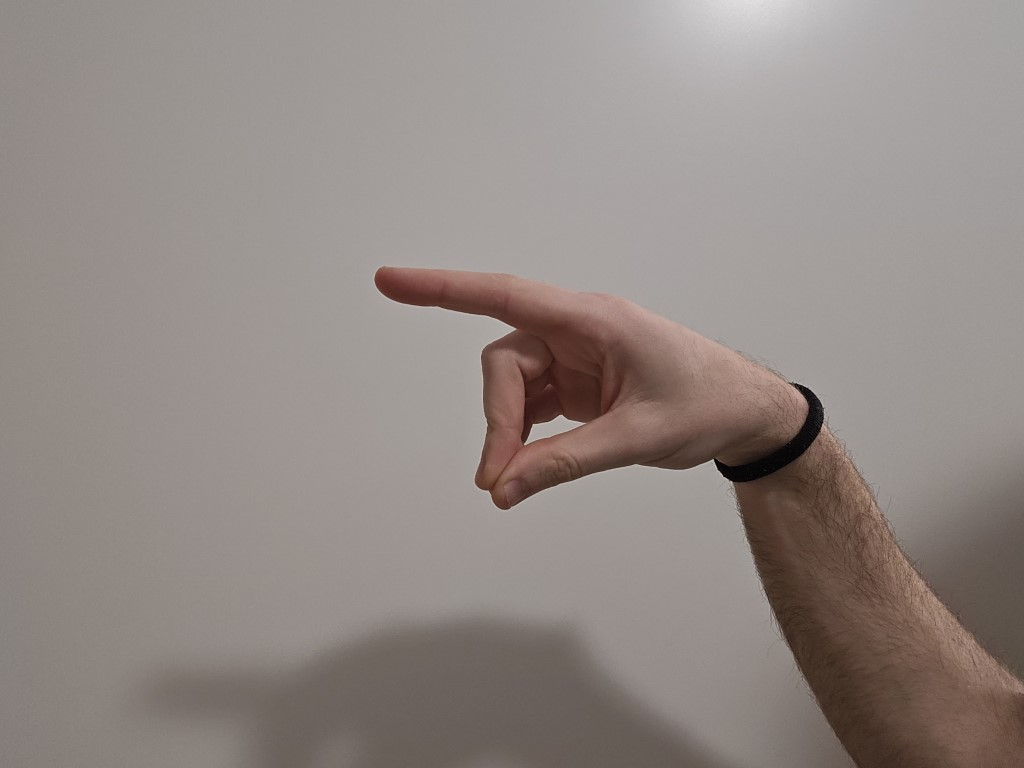p: (350, 237, 741, 531)
